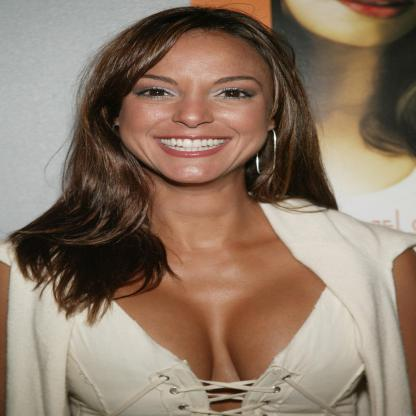long-hair: (32, 178, 350, 213)
